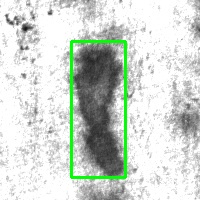patches: (71, 41, 125, 177)
